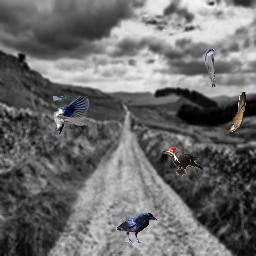Crow: (117, 212, 157, 244)
Cuckoo: (229, 92, 246, 132)
Swallow: (53, 96, 89, 136), (205, 48, 216, 88)
Woodpecker: (163, 147, 203, 178)
